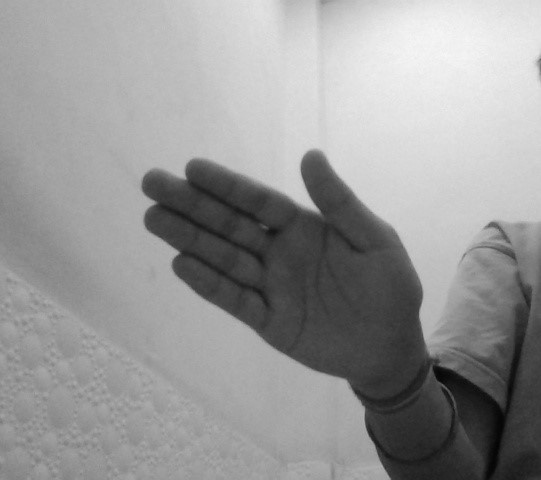Hello: (134, 141, 426, 386)
